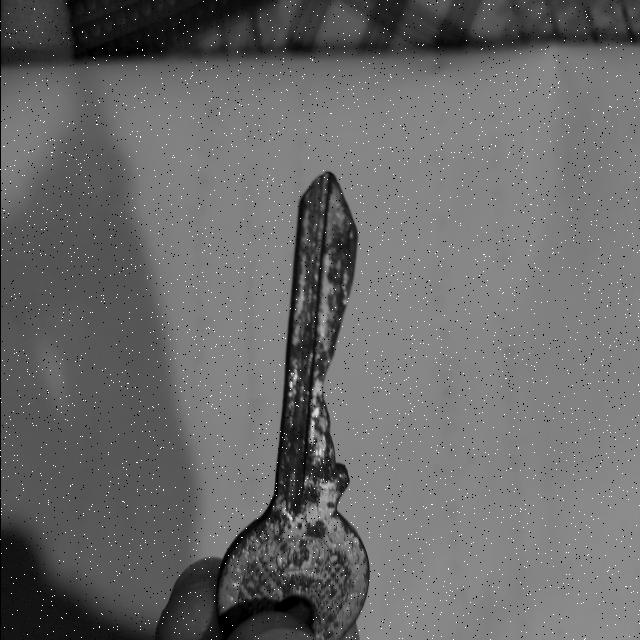key: (216, 173, 368, 640)
